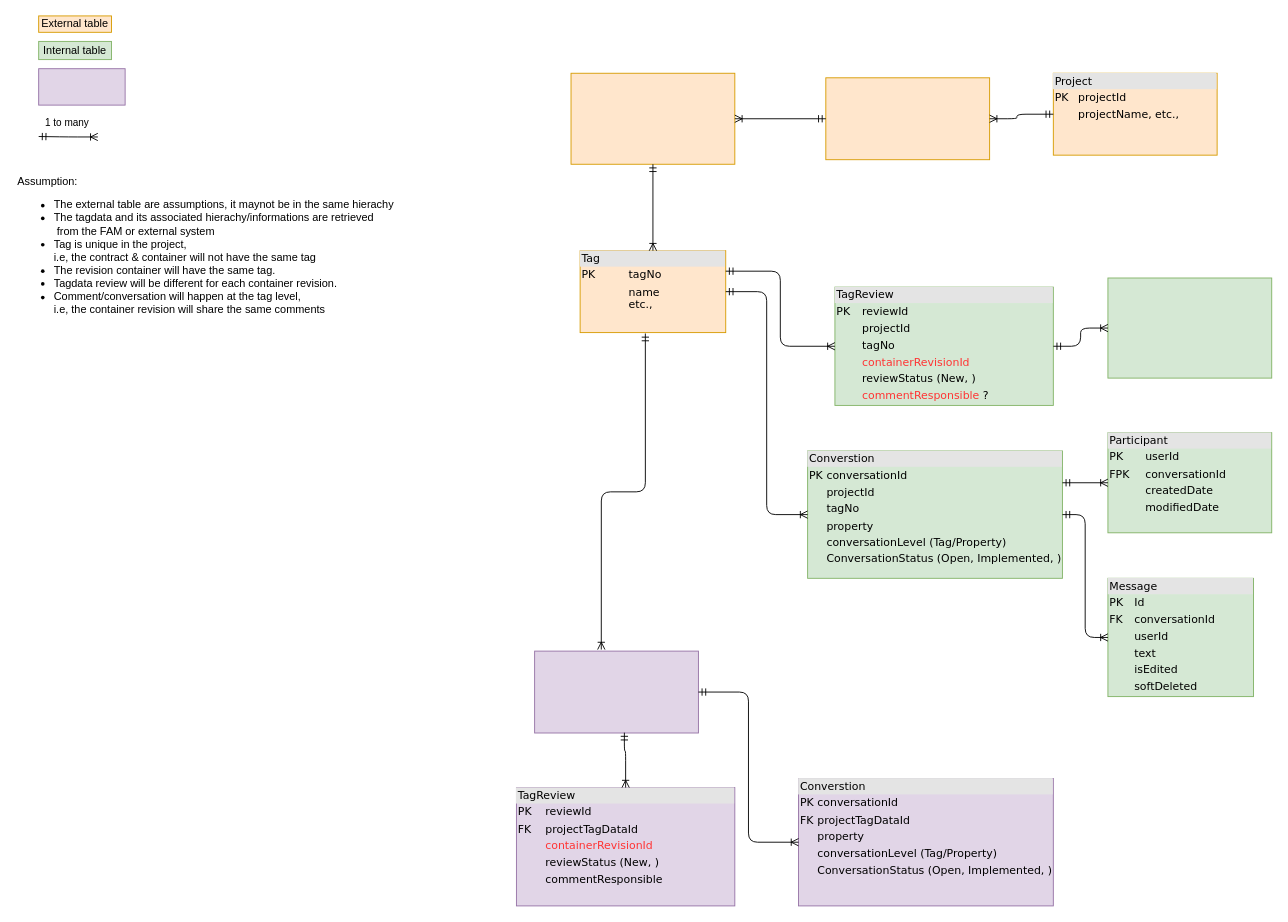
Image size: 1288x922. Some labels were removed from this diagram. Each missing label, with the box of its shape:
Alternative suggestion to Internal table: (38, 68, 125, 105)
Container PK containerId PK revision FK1 ContractId name, etc.,: (570, 72, 735, 164)
Contract PK contractId FK1 projectId name, etc.,: (825, 77, 990, 160)
Project_TagData PK id FK tagNo FK projectId: (534, 650, 698, 733)
Reviewer FPK tagReviewId PK userId reviewStatus createdDate modifiedDate: (1107, 277, 1272, 378)
